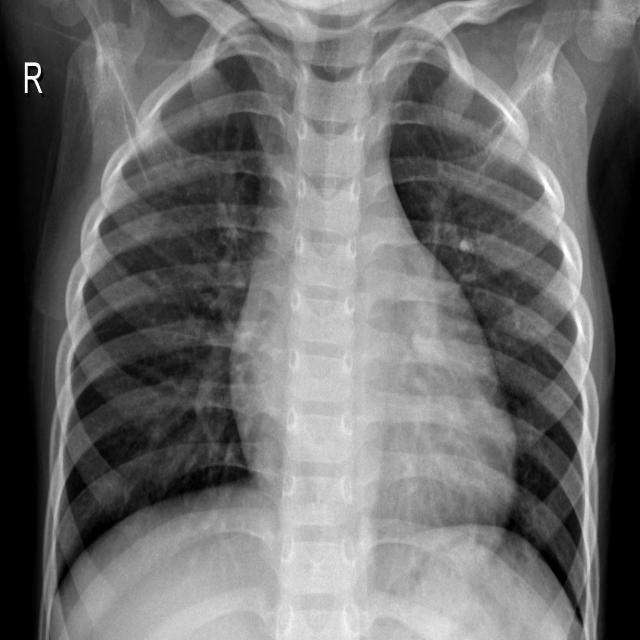no-pneumonia: (49, 19, 295, 584), (391, 44, 600, 620)
